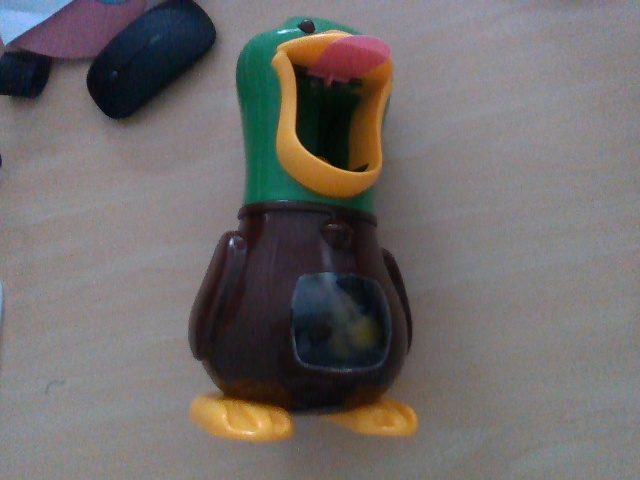toy: (187, 14, 422, 444)
